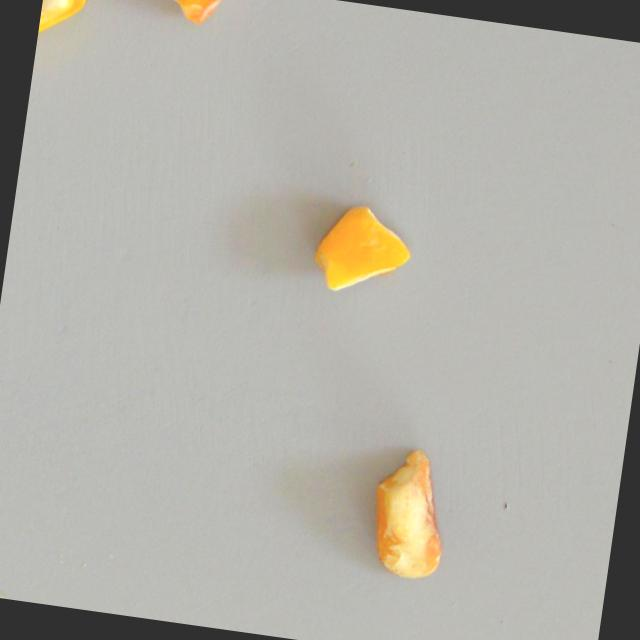dañado: (356, 433, 459, 589), (306, 193, 419, 305), (144, 0, 243, 38), (34, 0, 88, 63)
